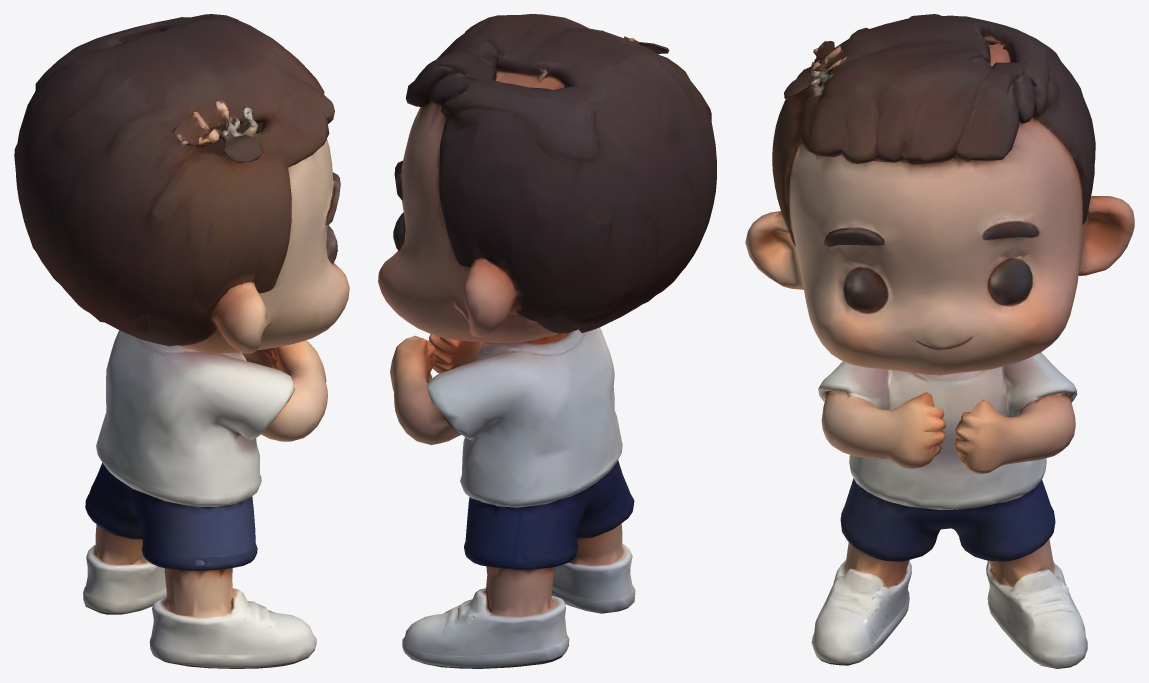
3 views of the same model, side by side, from view 1: azimuth 30°, elevation 25°; view 2: azimuth 150°, elevation 25°; view 3: azimuth 270°, elevation 25° (orthographic).
Visible parts, largest first — view 1: tripo_node_941a5512-be90-4348-9214-dd9f74b7585d; view 2: tripo_node_941a5512-be90-4348-9214-dd9f74b7585d; view 3: tripo_node_941a5512-be90-4348-9214-dd9f74b7585d.
Boxes of the visible parts, <box> form: tripo_node_941a5512-be90-4348-9214-dd9f74b7585d: <box>14,14,349,668</box>; tripo_node_941a5512-be90-4348-9214-dd9f74b7585d: <box>378,14,716,668</box>; tripo_node_941a5512-be90-4348-9214-dd9f74b7585d: <box>745,14,1134,668</box>.
Size of the model in its own units: 0.484 by 1 by 0.5905.
1 material, 1 textured.
